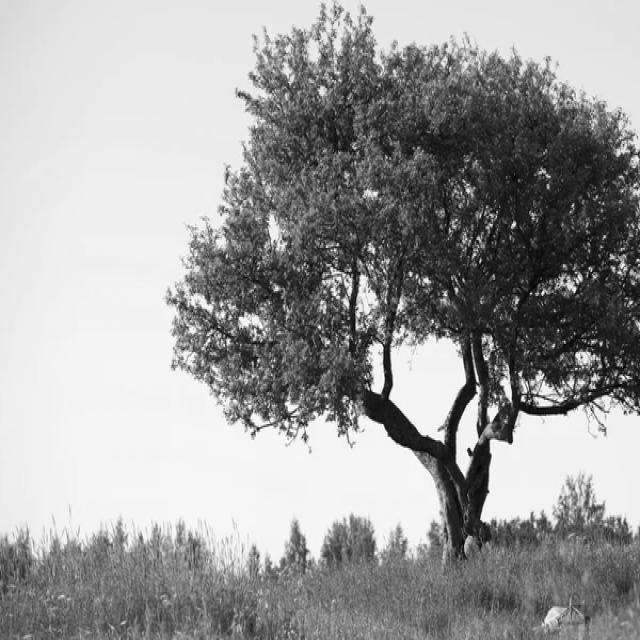Tree: (167, 6, 640, 562)
